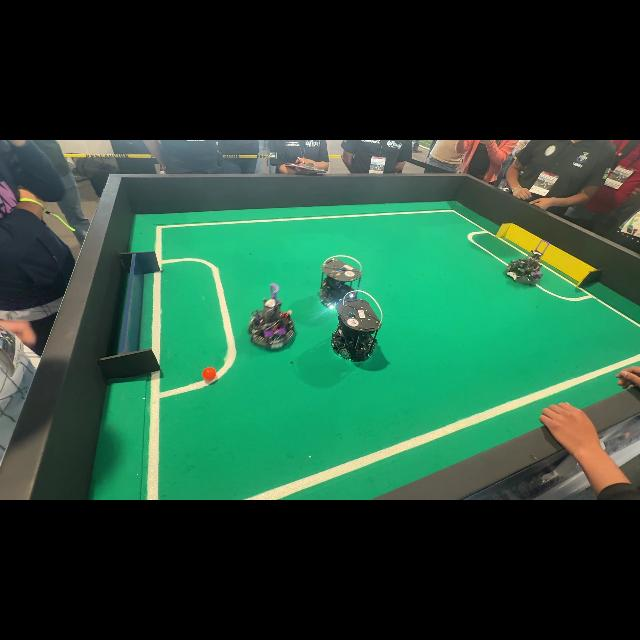ball: (202, 367, 216, 383)
goal: (99, 252, 161, 378), (496, 224, 602, 287)
robot: (331, 290, 383, 361), (249, 284, 294, 349), (317, 255, 364, 305), (505, 240, 550, 289)
